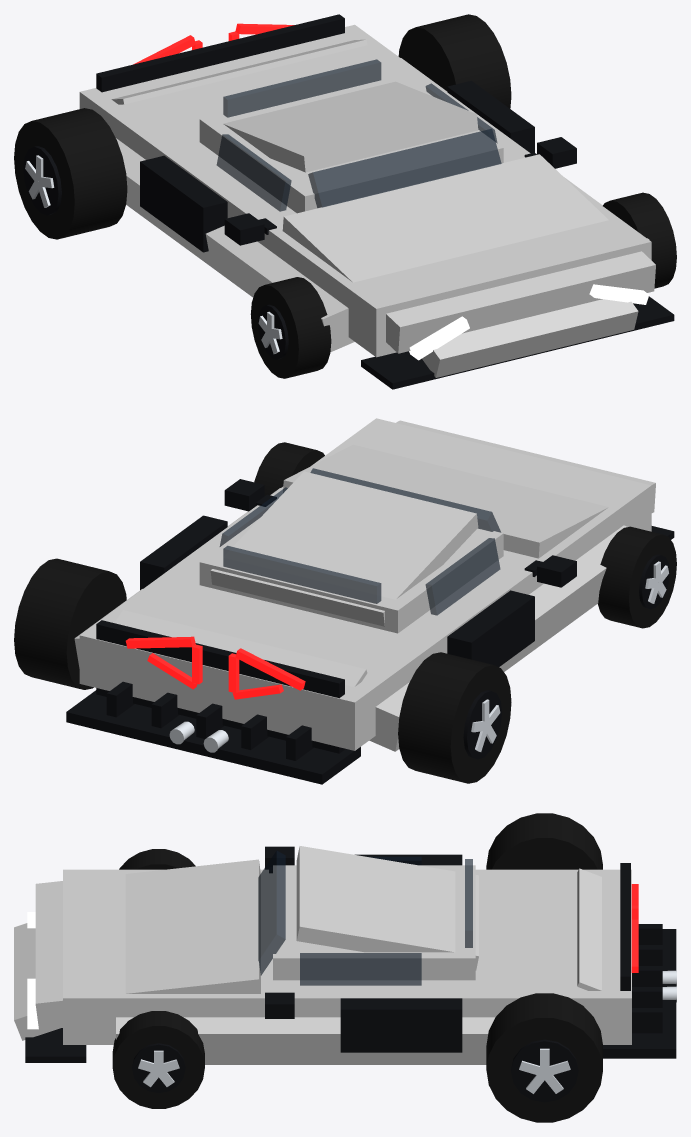
File: lambchop-bonehorn.glb
The picture shows the model from 3 angles, top to bottom: view 1: azimuth 30°, elevation 25°; view 2: azimuth 150°, elevation 25°; view 3: azimuth 270°, elevation 25°; orthographic projection. The views are drawn at different scales.
Visible parts, largest first — view 1: chassis, body, wheel-back-left, glass, wheel-front-left, wheel-back-right, wheel-front-right; view 2: chassis, body, wheel-back-left, wheel-back-right, wheel-front-left, wheel-front-right, glass; view 3: chassis, body, wheel-back-right, wheel-front-right, wheel-back-left, glass, wheel-front-left.
Part boxes in pixels (box(x1,y1,x2,y2)): chassis: box(96, 14, 674, 389); body: box(79, 24, 651, 357); wheel-back-left: box(14, 108, 127, 239); glass: box(308, 129, 501, 207); wheel-front-left: box(250, 277, 331, 378); wheel-back-right: box(398, 14, 511, 108); wheel-front-right: box(603, 192, 676, 288); chassis: box(66, 420, 674, 784); body: box(79, 418, 651, 750); wheel-back-left: box(398, 652, 511, 783); wheel-back-right: box(14, 558, 126, 689); wheel-front-left: box(598, 526, 676, 628); wheel-front-right: box(254, 442, 324, 495); glass: box(310, 468, 500, 532); chassis: box(14, 846, 676, 1064); body: box(63, 869, 631, 1044); wheel-back-right: box(486, 993, 602, 1122); wheel-front-right: box(112, 1011, 204, 1108); wheel-back-left: box(486, 813, 602, 869); glass: box(258, 851, 285, 975); wheel-front-left: box(119, 849, 195, 869).
Bounding box in the file's own units: 3.68 × 1.1 × 4.91.
